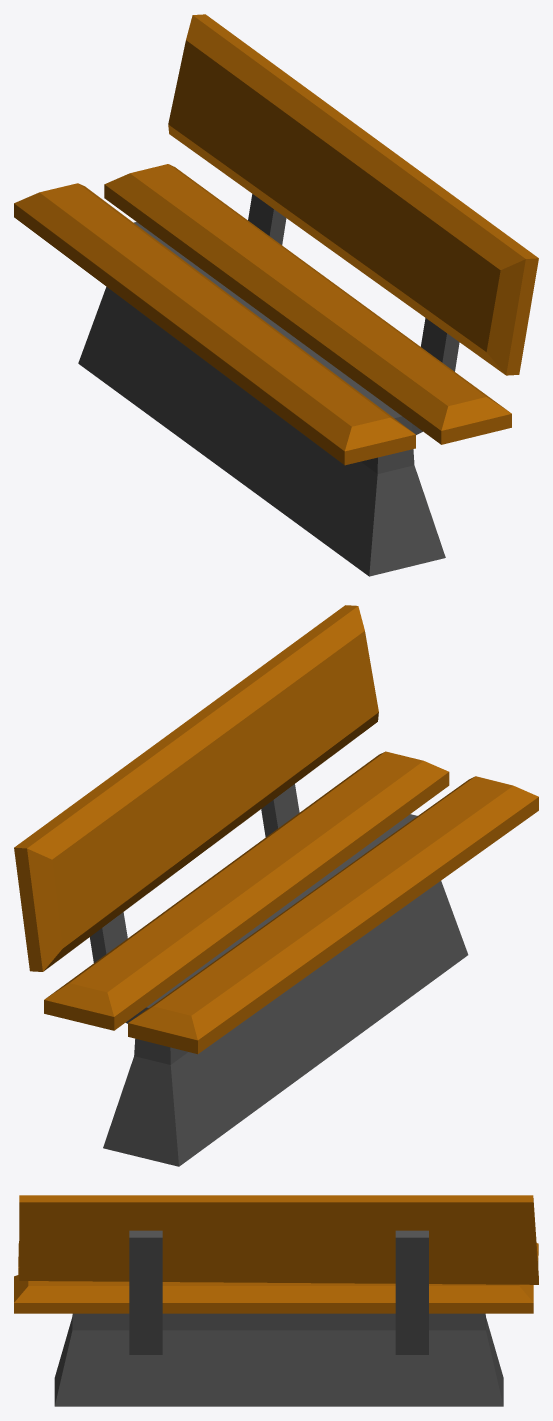
Rendered from Bench_2.fbx.
3 renders of one model, top to bottom at view 1: azimuth 30°, elevation 25°; view 2: azimuth 150°, elevation 25°; view 3: azimuth 270°, elevation 25°, orthographic. The views are drawn at different scales.
Parts seen in each view (by area): view 1: Bench_1A; view 2: Bench_1A; view 3: Bench_1A.
Boxes of the visible parts, x1=… form: Bench_1A: x1=14, y1=14, x2=538, y2=576; Bench_1A: x1=14, y1=605, x2=538, y2=1166; Bench_1A: x1=14, y1=1195, x2=538, y2=1406.
Bounding box in the file's own units: 1680 × 2406 × 4921.
